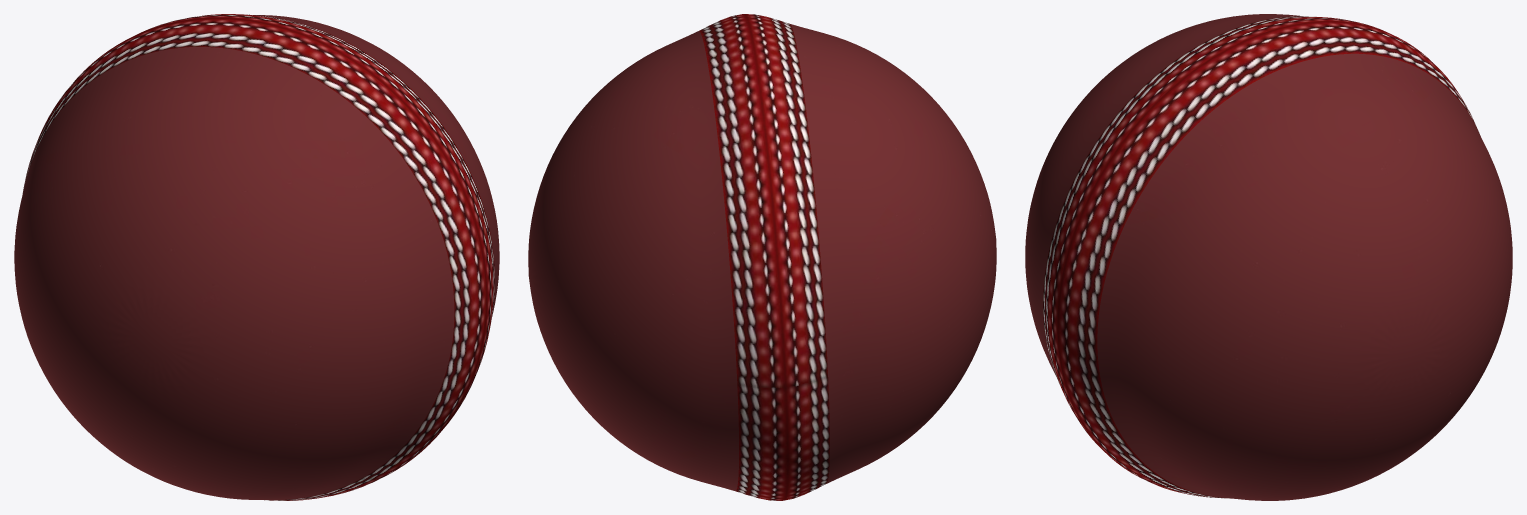
Rendered from ball.fbx.
3 renders of one model, left to right at view 1: azimuth 30°, elevation 25°; view 2: azimuth 150°, elevation 25°; view 3: azimuth 270°, elevation 25°, orthographic. The views are drawn at different scales.
Visible parts, largest first — view 1: Sphere; view 2: Sphere; view 3: Sphere.
Part boxes in pixels (x1=…): Sphere: x1=14, y1=14, x2=499, y2=500; Sphere: x1=528, y1=14, x2=996, y2=500; Sphere: x1=1025, y1=14, x2=1512, y2=500.
Size of the model in its own units: 198 by 207 by 198.
